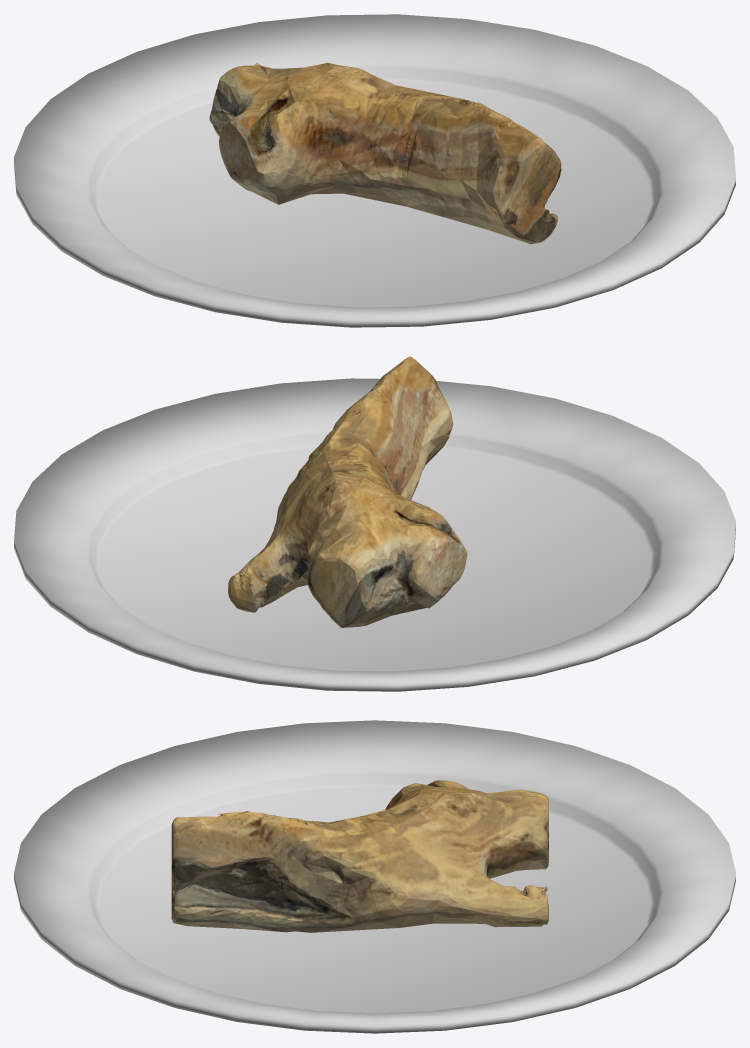
Rendered from kutuk_yeni.glb.
The picture shows the model from 3 angles, top to bottom: view 1: azimuth 30°, elevation 25°; view 2: azimuth 150°, elevation 25°; view 3: azimuth 270°, elevation 25°; orthographic projection.
Visible parts, largest first — view 1: Cylinder_Cylinder.000, mars1; view 2: Cylinder_Cylinder.000, mars1; view 3: Cylinder_Cylinder.000, mars1.
Part boxes in pixels (x1,y1,x2,y2): Cylinder_Cylinder.000: (14,14,735,327); mars1: (209,63,561,244); Cylinder_Cylinder.000: (14,378,735,691); mars1: (228,356,467,627); Cylinder_Cylinder.000: (14,720,735,1033); mars1: (171,780,548,932).
Bounding box in the file's own units: 0.4234 × 0.0819 × 0.4234.
Materials: 2 (1 with a texture image).
